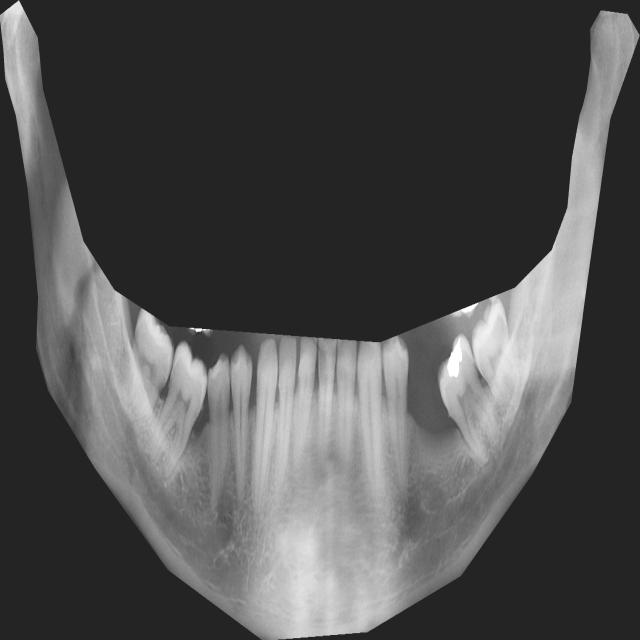mandibula: (0, 0, 640, 640)
